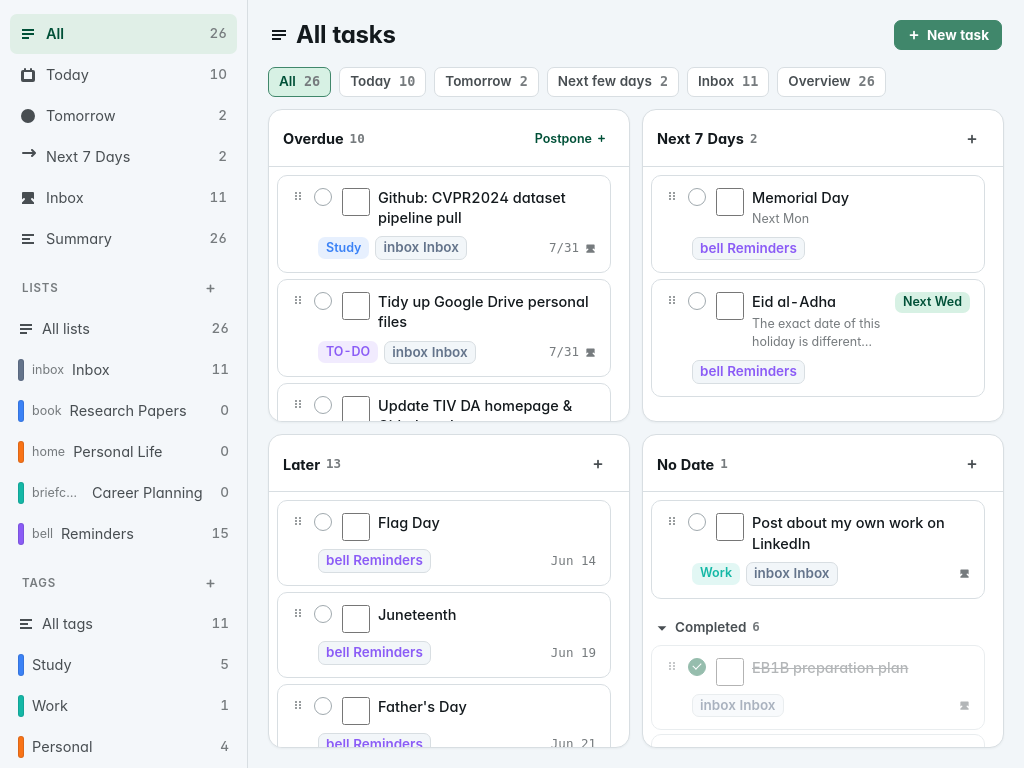
Test: TasksModule — collection overview boards › renders All lists as list-grouped cards instead of time buckets
Click the text "All lists".
click(66, 329)  # box [42,320,90,338]
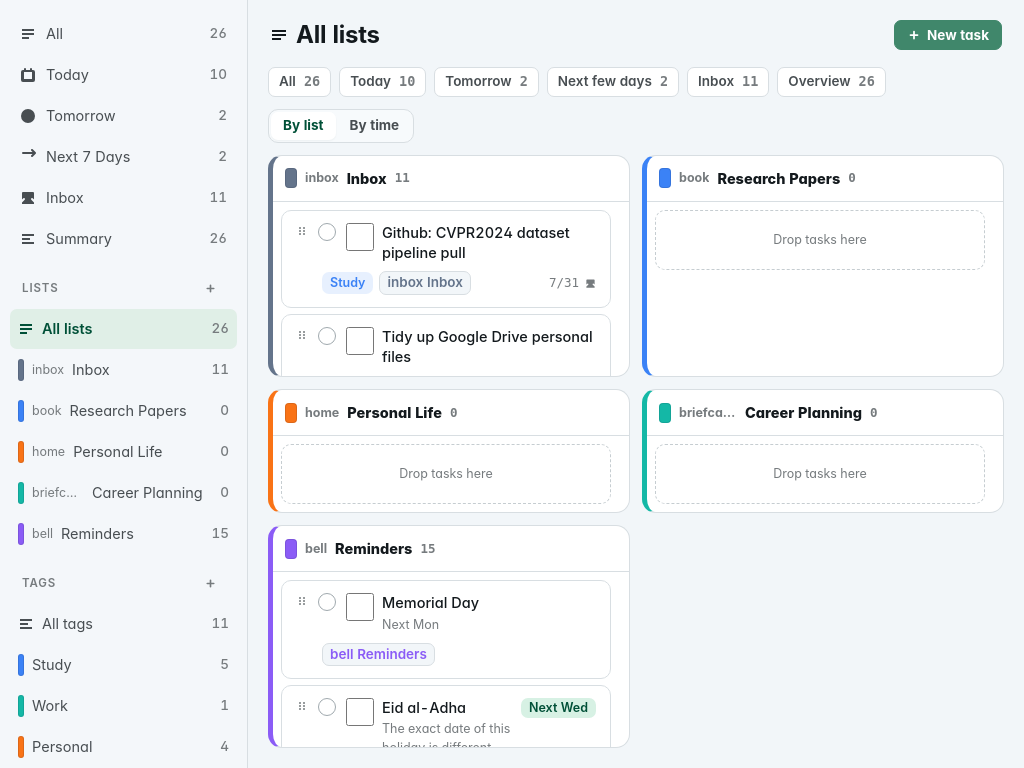
Now the element with class "task-group-board" is shown
Now no elements with class "task-col" are shown
